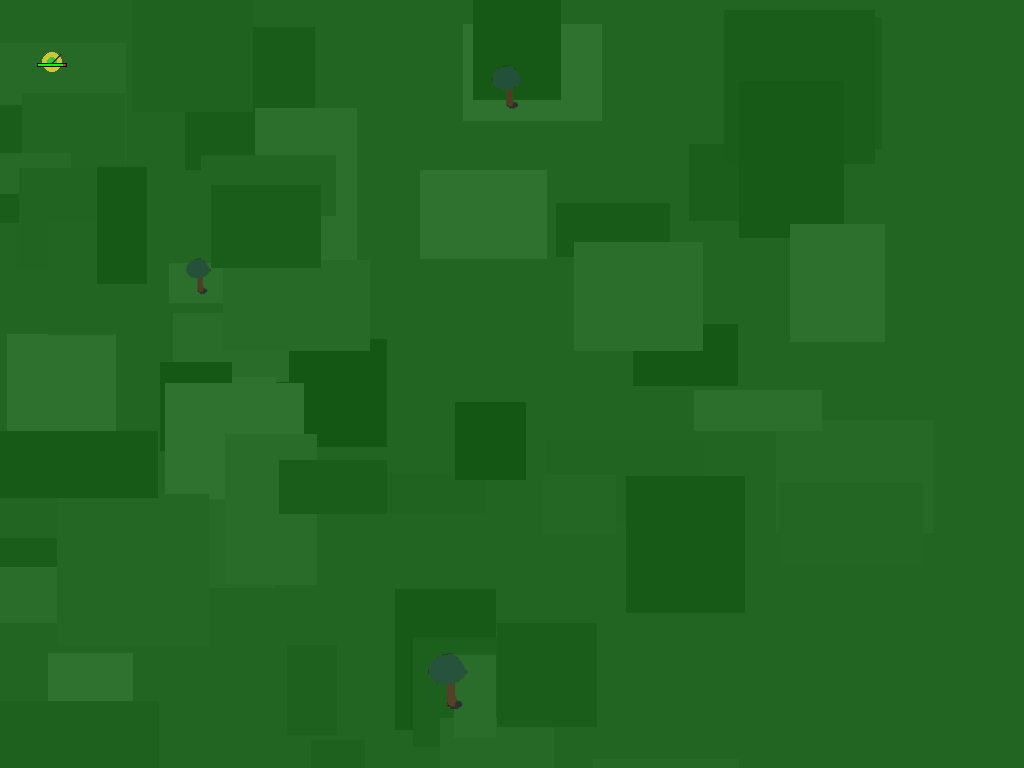Rifleman: (33, 44, 69, 80)
